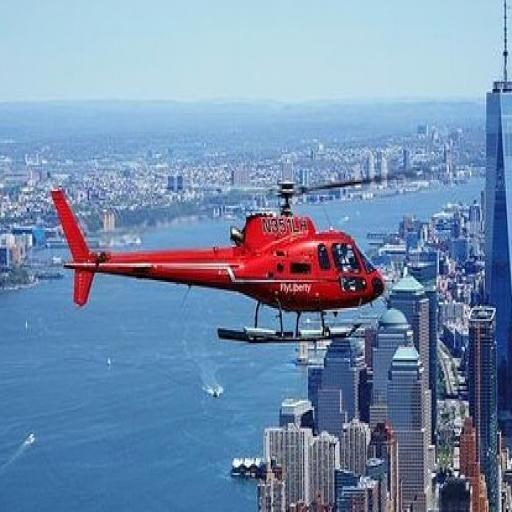helicopter: (47, 112, 393, 346)
